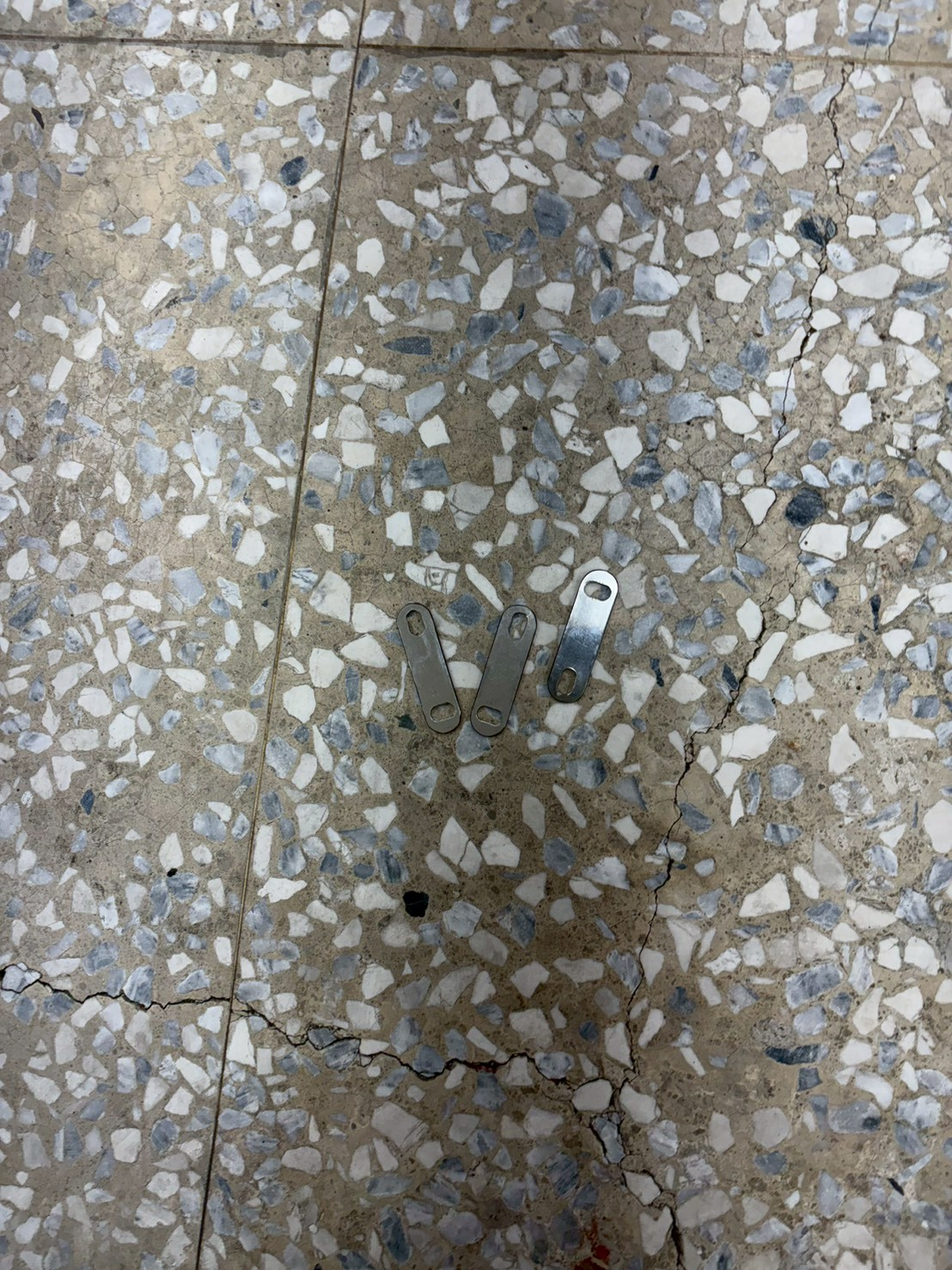Fe: (502, 601, 549, 740), (583, 568, 630, 706), (392, 604, 438, 742)
